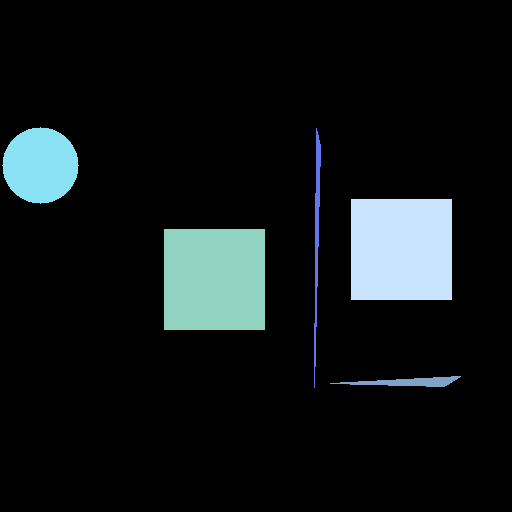circle: (2, 127, 78, 203)
square: (164, 229, 264, 329), (351, 199, 451, 299)
triangle: (330, 376, 460, 386)
